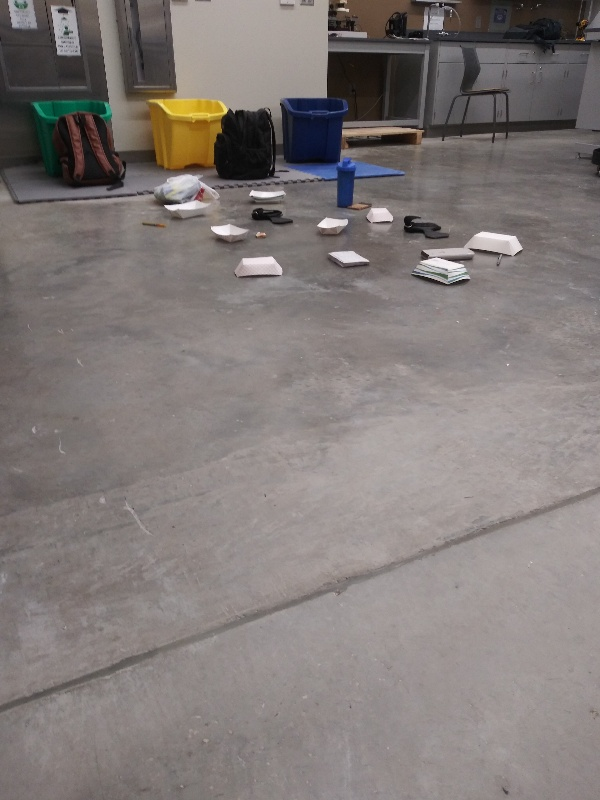plate: (405, 256, 476, 289), (461, 229, 530, 259), (231, 253, 287, 282), (161, 196, 215, 223), (207, 219, 255, 244), (245, 185, 292, 205), (311, 212, 351, 235), (363, 202, 395, 228)
